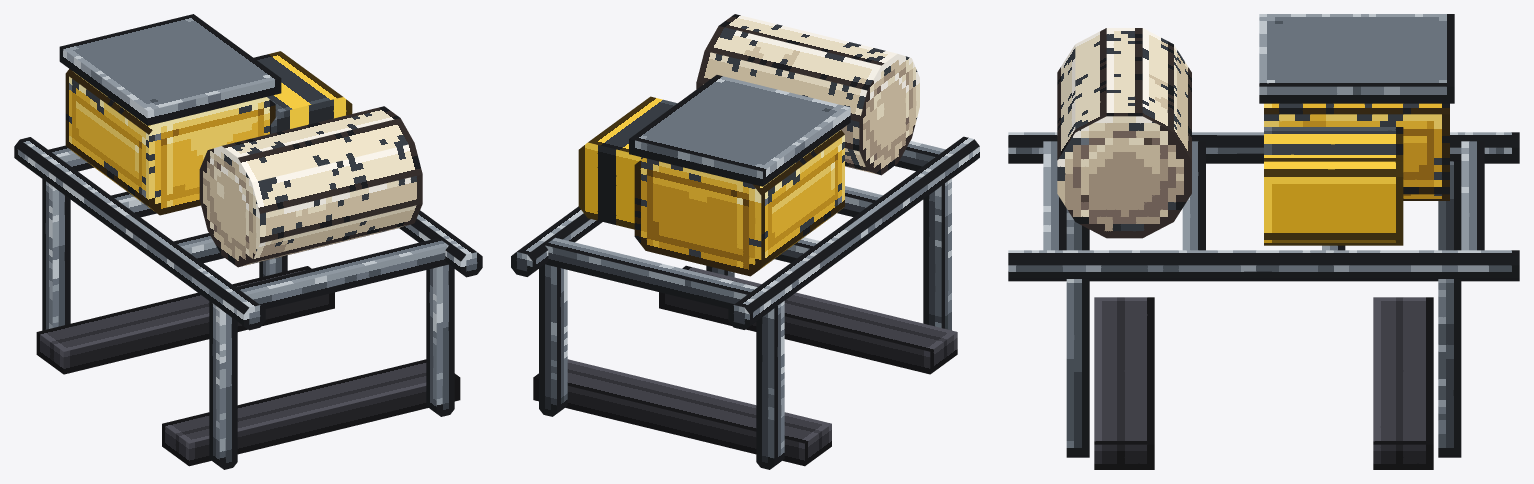
The model's file is cy_cargo.glb.
3 views of the same model, side by side, from view 1: azimuth 30°, elevation 25°; view 2: azimuth 150°, elevation 25°; view 3: azimuth 270°, elevation 25° (orthographic). The views are drawn at different scales.
Parts seen in each view (by area): view 1: drum, lid, crateA, strap2, strap1, railR, cross3, post3, post2, post1, crateB, railL (+3 smaller); view 2: crateA, drum, lid, strap1, strap2, railR, crateB, cross0, post1, post0, post3, railL (+3 smaller); view 3: drum, lid, crateB, railL, strap1, strap2, crateA, railR, post0, post2, cross0, cross3 (+3 smaller).
Part boxes in pixels (x1,y1,x2,y2): drum: (199, 106, 422, 267); lid: (59, 14, 281, 125); crateA: (65, 69, 275, 215); strap2: (162, 359, 460, 466); strap1: (36, 266, 334, 374); railR: (14, 137, 265, 330); cross3: (236, 238, 448, 309); post3: (209, 301, 237, 469); post2: (426, 264, 454, 416); post1: (42, 179, 70, 330); crateB: (254, 51, 352, 133); railL: (399, 210, 482, 277); crateA: (634, 130, 844, 276); drum: (696, 14, 919, 175); lid: (629, 75, 850, 186); strap1: (533, 359, 831, 466); strap2: (659, 265, 957, 374); railR: (728, 136, 979, 329); crateB: (578, 96, 677, 229); cross0: (545, 237, 757, 308); post1: (756, 301, 784, 469); post0: (539, 264, 567, 416); post3: (923, 178, 951, 330); railL: (511, 206, 602, 276); drum: (1057, 28, 1191, 238); lid: (1259, 14, 1454, 103); crateB: (1264, 127, 1403, 245); railL: (1008, 250, 1519, 281); strap1: (1373, 297, 1433, 469); strap2: (1094, 297, 1154, 469); crateA: (1264, 103, 1449, 200); railR: (1008, 132, 1519, 163); post0: (1438, 279, 1461, 457); post2: (1066, 279, 1089, 457); cross0: (1461, 141, 1484, 250); cross3: (1043, 141, 1066, 250).
Bounding box in the file's own units: 15 × 15.5 × 22.
Materials: 1 (1 with a texture image).
